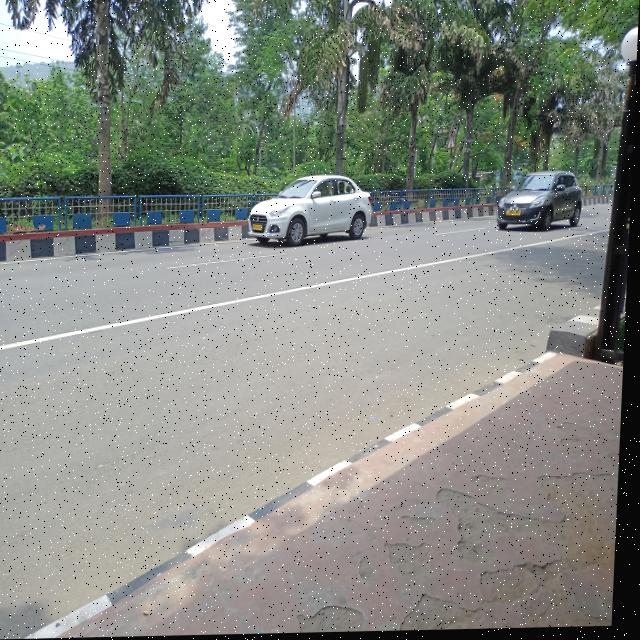car: (246, 170, 389, 268), (492, 160, 596, 248)
